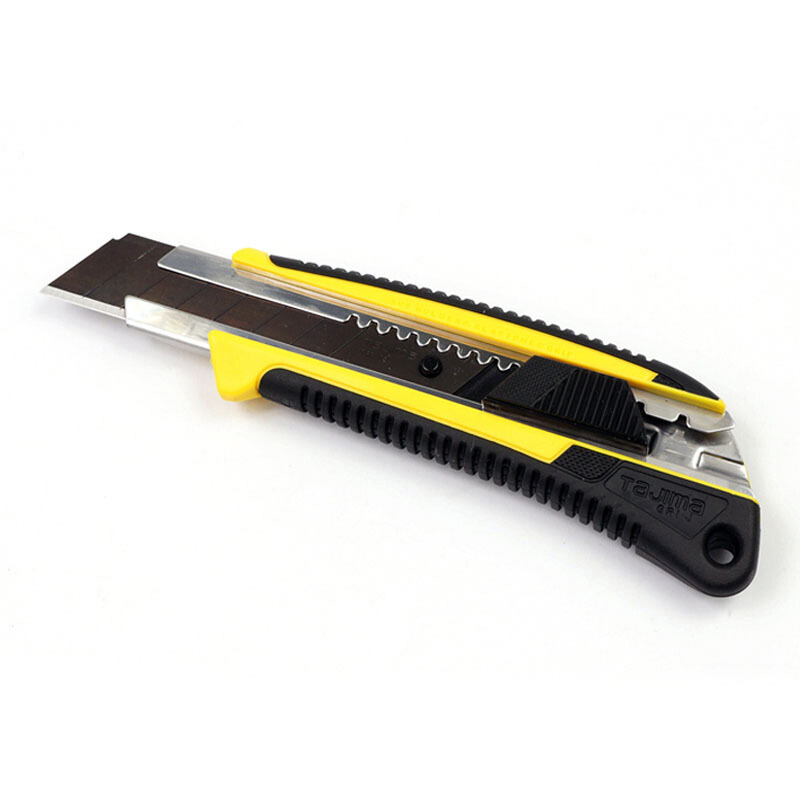cutter: (38, 232, 763, 601)
